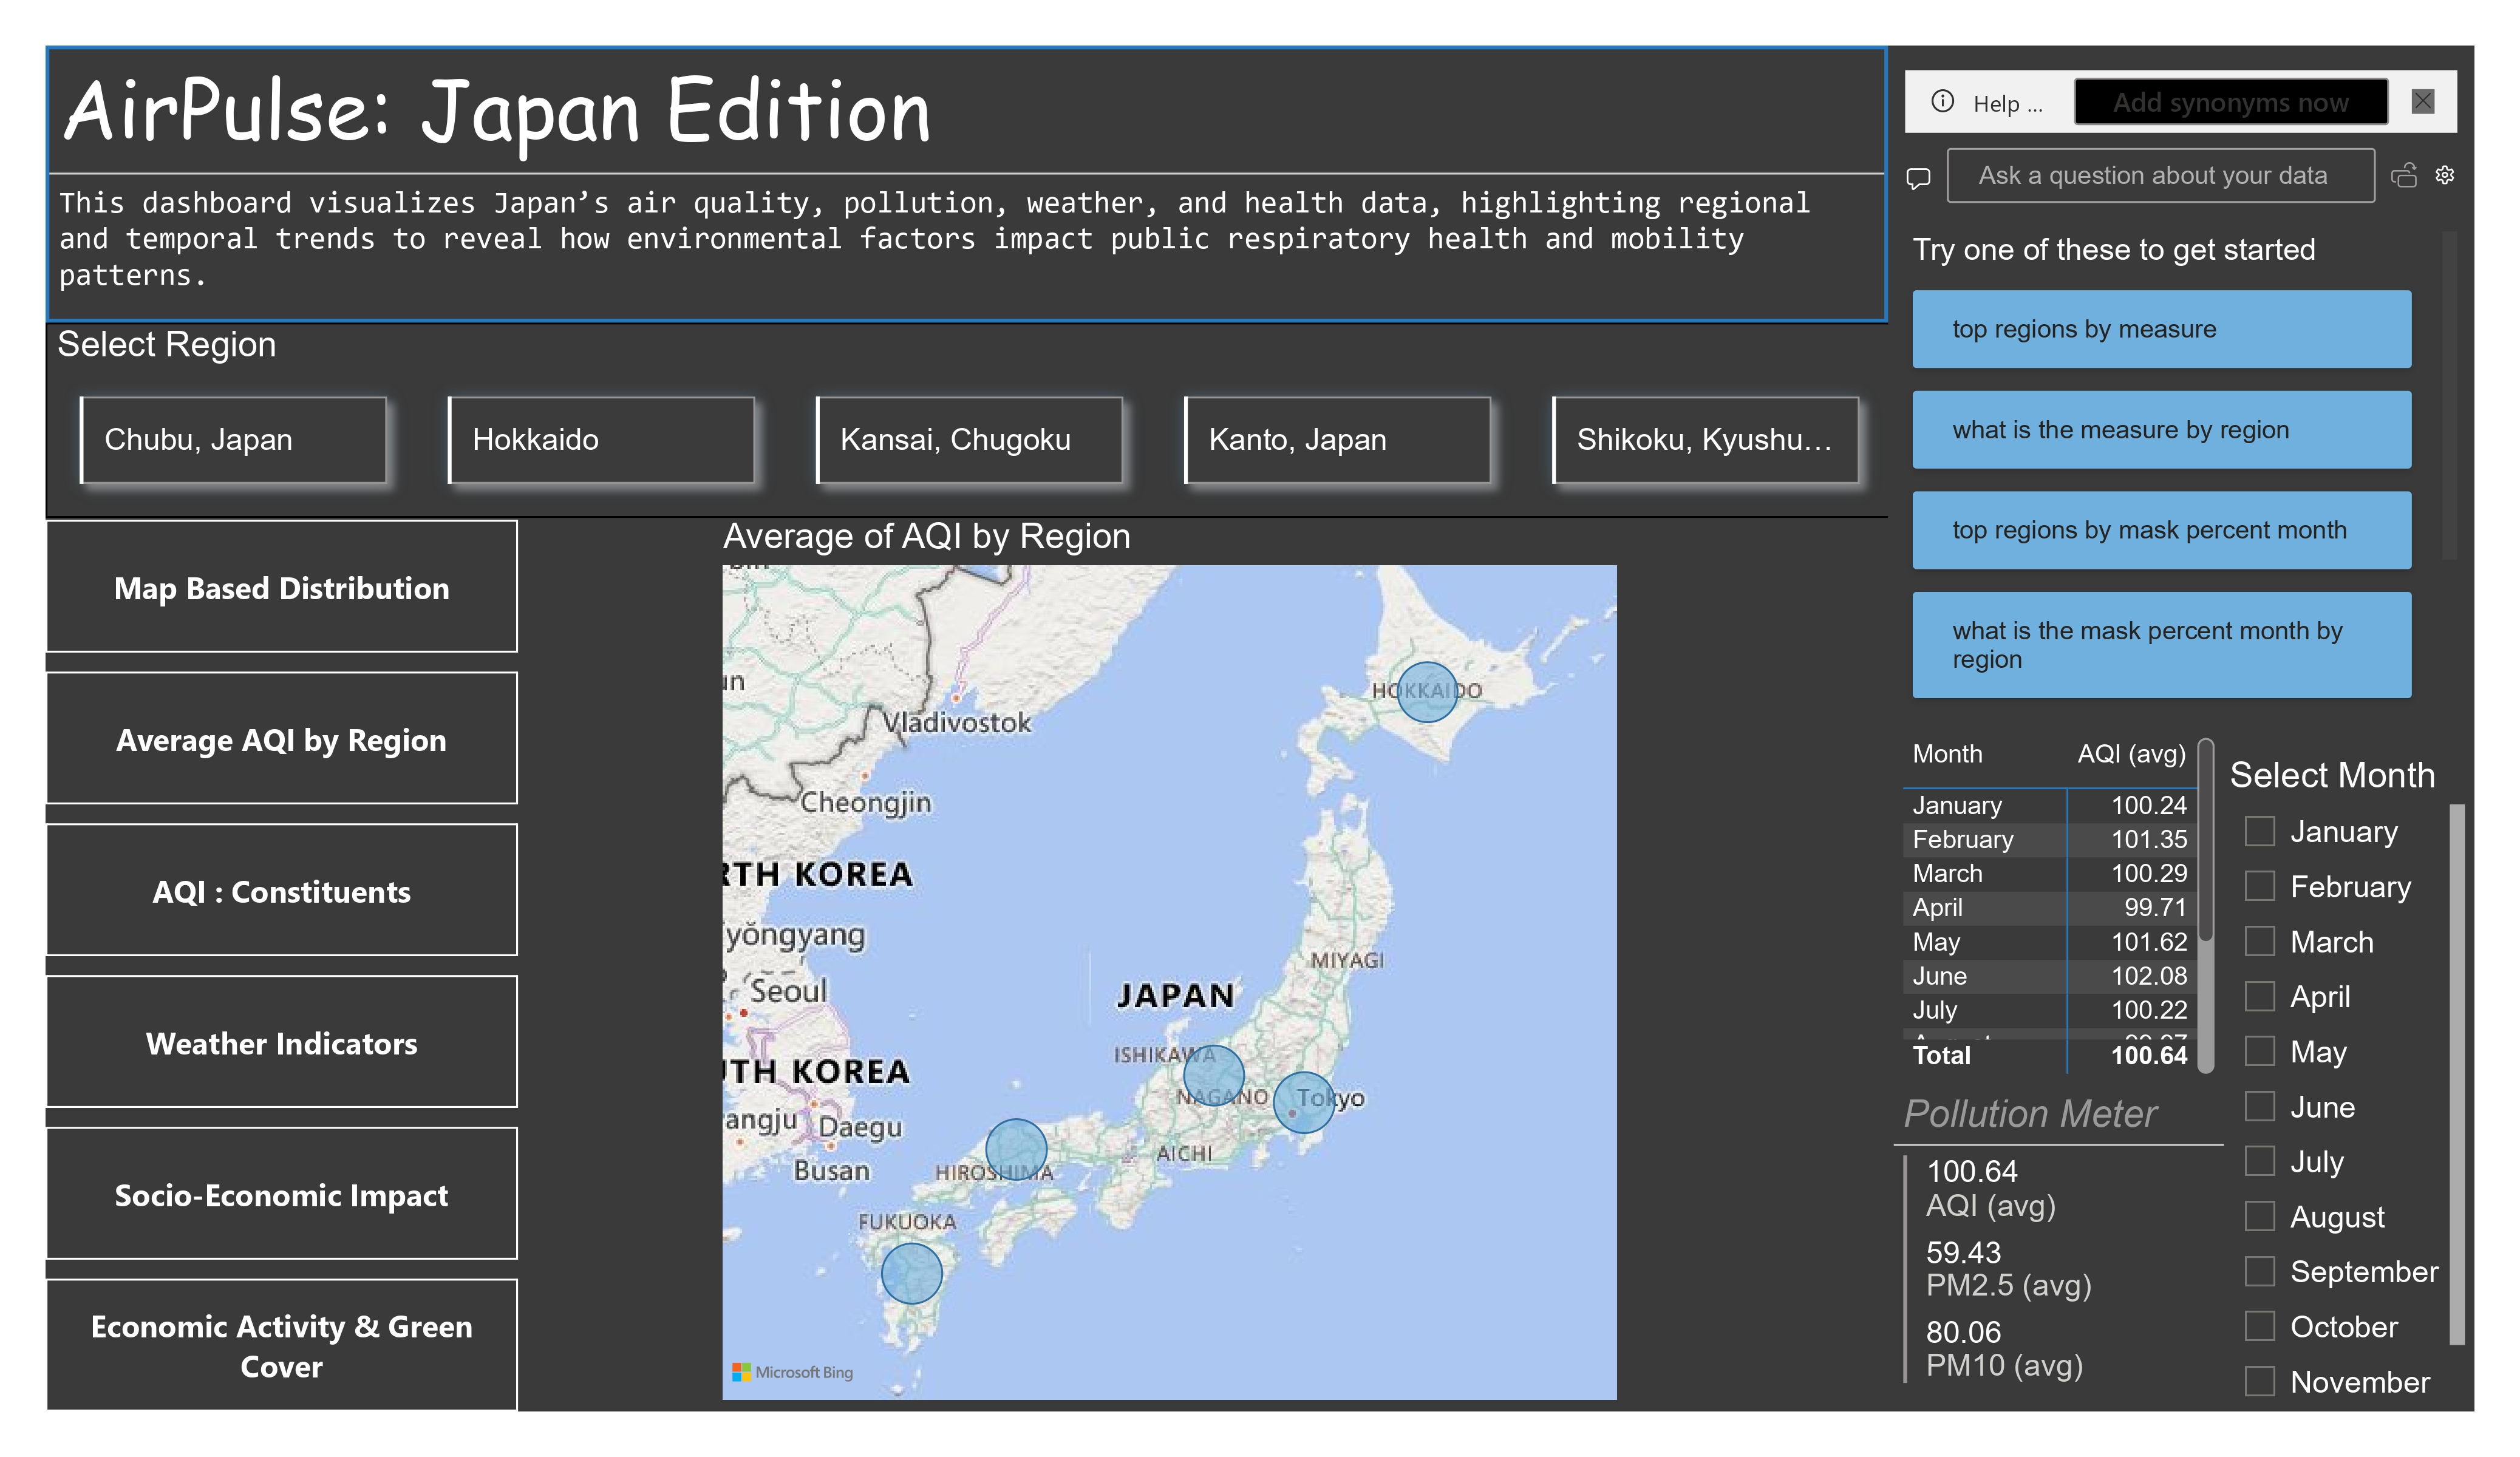

What the dashboard file says about the page in this screenshot:
{"tool":"powerbi","page":{"name":"Map based Distribution","canvas":[1280,720],"ordinal":0},"visuals":[{"type":"map","fields":{"Category":["air_quality_health_dataset.Region"],"Size":["Avg(air_quality_health_dataset.AQI)"]},"box":[352,247.7,481.4,471.7],"z":0},{"type":"advancedSlicerVisual","title":"Select Region","fields":{"Values":["air_quality_health_dataset.Region"]},"box":[0,145.7,974.3,102.9],"z":1000},{"type":"slicer","title":"Select Month","fields":{"Values":["air_quality_health_dataset.Date.Variation.Date Hierarchy.Month"]},"box":[1145.7,374.3,134.3,345.7],"z":2000},{"type":"qnaVisual","box":[971.4,0,308.6,360],"z":3000},{"type":"textbox","title":"AirPulse: Japan Edition","box":[0,0,971.4,145.7],"z":4000},{"type":"multiRowCard","title":"Pollution Meter","fields":{"Values":["Avg(air_quality_health_dataset.AQI)","Avg(air_quality_health_dataset.PM2.5)","Avg(air_quality_health_dataset.PM10)"]},"box":[973.9,551.7,173.9,168.3],"z":5000},{"type":"pivotTable","fields":{"Values":["Avg(air_quality_health_dataset.AQI)"],"Rows":["air_quality_health_dataset.Date.Variation.Date Hierarchy.Month"]},"box":[973.9,360.3,173.9,186.4],"z":6000},{"type":"bookmarkNavigator","box":[0,250.3,249.1,469.9],"z":8000}]}

Visuals, with their boxes in screenshot pixels (x1, y1, x2, y2):
map - air_quality_health_dataset.Region x Avg(air_quality_health_dataset.AQI): [x1=713, y1=515, x2=1627, y2=1410]
"Select Region" advancedSlicerVisual: [x1=46, y1=322, x2=1895, y2=517]
"Select Month" slicer: [x1=2219, y1=756, x2=2474, y2=1411]
qnaVisual: [x1=1889, y1=46, x2=2474, y2=728]
"AirPulse: Japan Edition" textbox: [x1=46, y1=46, x2=1889, y2=322]
"Pollution Meter" multiRowCard: [x1=1893, y1=1092, x2=2224, y2=1411]
pivotTable - Avg(air_quality_health_dataset.AQI) x air_quality_health_dataset.Date.Variation.Date Hierarchy.Month: [x1=1893, y1=729, x2=2224, y2=1082]
bookmarkNavigator: [x1=46, y1=520, x2=518, y2=1411]
